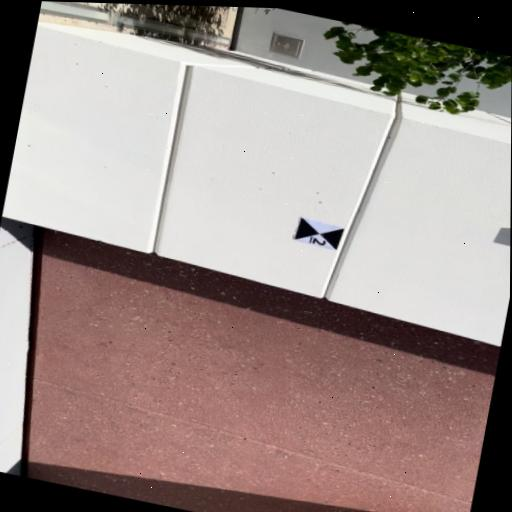target2: (295, 216, 346, 251)
